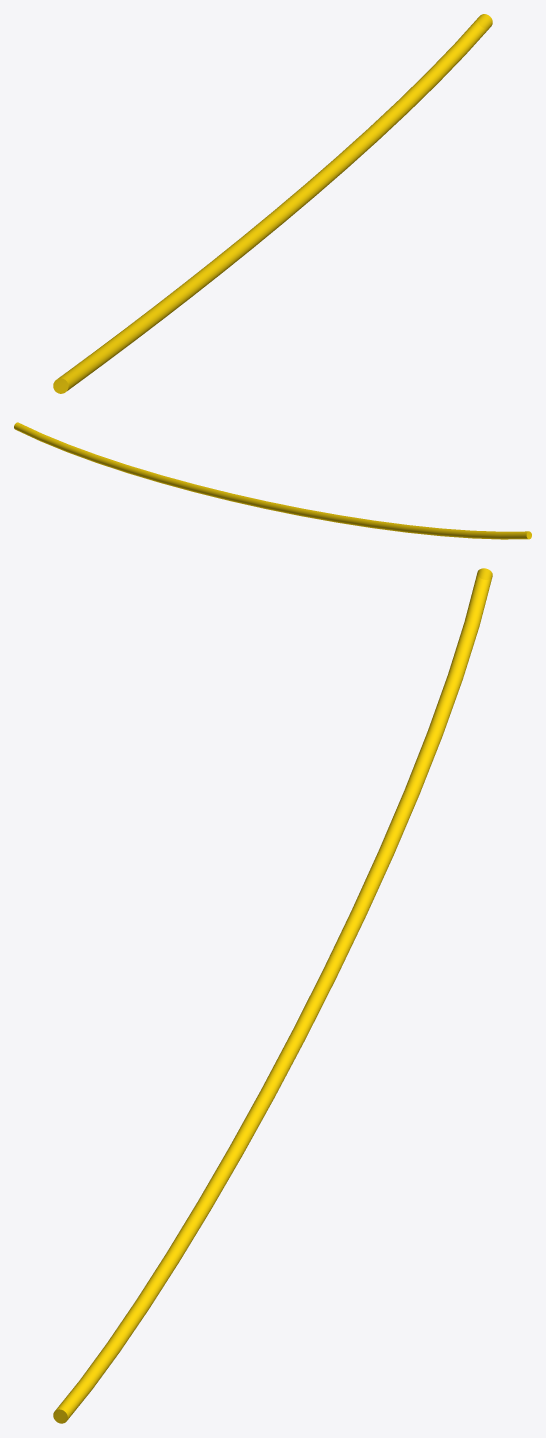
The model's file is Event_421115418_track_24.fbx.
3 views of the same model, one above another, from view 1: azimuth 90°, elevation 25°; view 2: azimuth 150°, elevation 25°; view 3: azimuth 270°, elevation 25° (orthographic). The views are drawn at different scales.
Visible parts, largest first — view 1: Model; view 2: Model; view 3: Model.
Boxes of the visible parts, x1,y1,x2,y2 form: Model: [53, 14, 492, 393]; Model: [14, 422, 531, 539]; Model: [53, 568, 492, 1423].
Size of the model in its own units: 3.65 by 0.7101 by 1.12.
